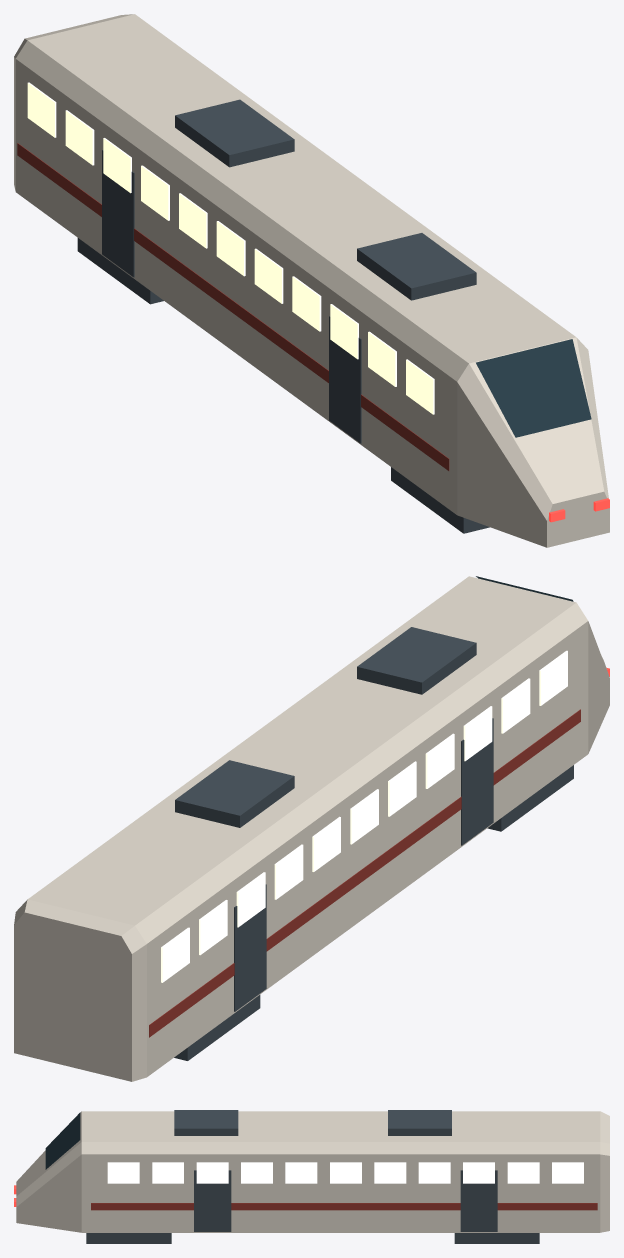
Rendered from express-tail.glb.
3 views of the same model, one above another, from view 1: azimuth 30°, elevation 25°; view 2: azimuth 150°, elevation 25°; view 3: azimuth 270°, elevation 25° (orthographic). The views are drawn at different scales.
Size of the model in its own units: 3.01 by 3.94 by 19.57.
